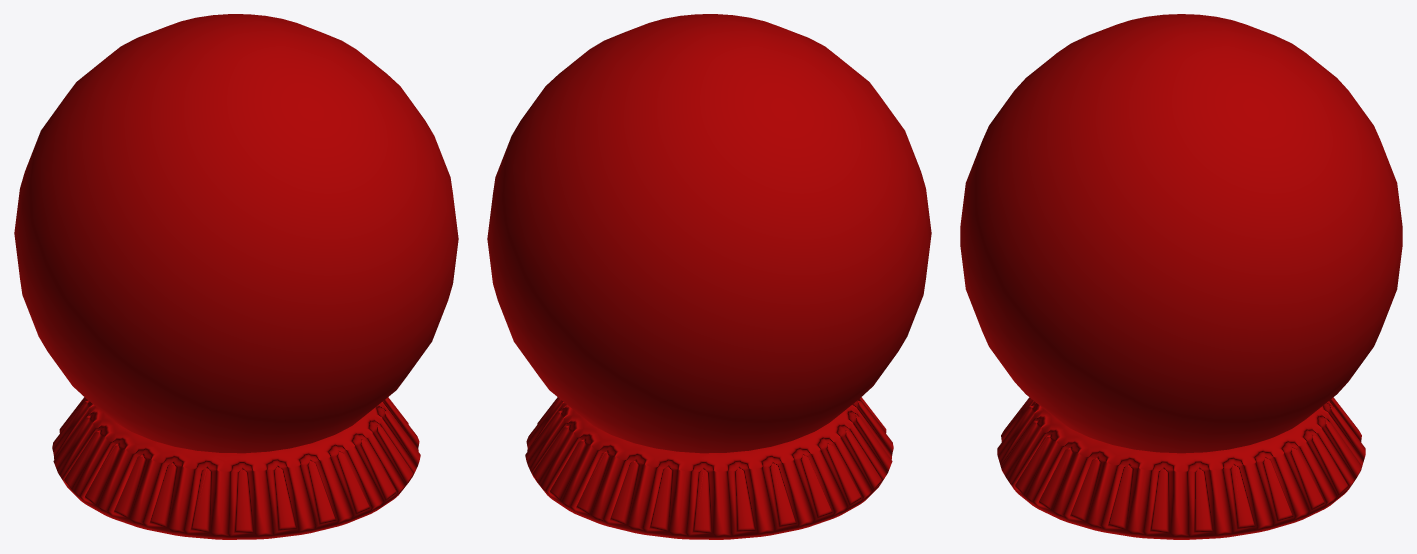
The model's file is SnowGlobe.fbx.
The picture shows the model from 3 angles, left to right: view 1: azimuth 30°, elevation 25°; view 2: azimuth 150°, elevation 25°; view 3: azimuth 270°, elevation 25°; orthographic projection.
Parts seen in each view (by area): view 1: merge1_0; view 2: merge1_0; view 3: merge1_0.
Part boxes in pixels (box(x1,y1,x2,y2)): merge1_0: box(14, 14, 458, 539); merge1_0: box(487, 14, 931, 539); merge1_0: box(960, 14, 1402, 539).
Bounding box in the file's own units: 12.1 × 12.93 × 12.05.
